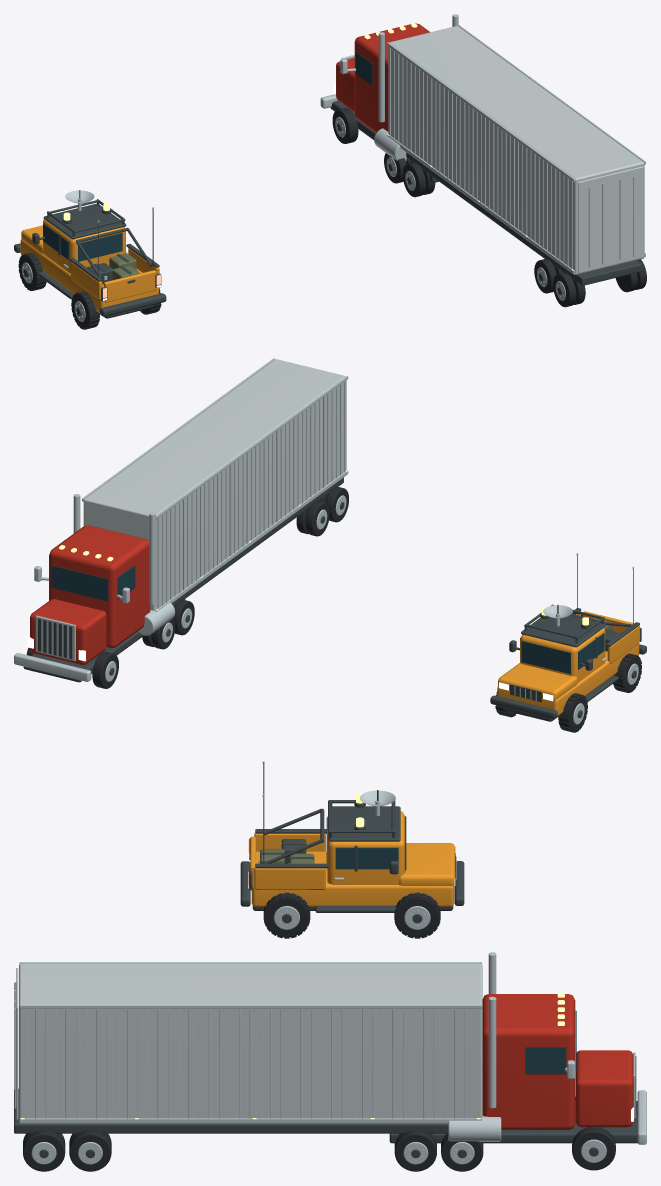
The model's file is storm-vehicles.glb.
3 views of the same model, one above another, from view 1: azimuth 30°, elevation 25°; view 2: azimuth 150°, elevation 25°; view 3: azimuth 270°, elevation 25° (orthographic). The views are drawn at different scales.
Parts seen in each view (by area): view 1: Trailer box, Trailer doors, Sleeper cab, Trailer chassis, Roof, Body, Cab, Tailgate, Trailer lower rail, Trailer upper rail, Rear glass, Semi hood (+10 smaller); view 2: Trailer box, Sleeper cab, Semi hood, Hood, Body, Roof, Semi windshield, Cab, Windshield, Trailer lower rail, Trailer chassis, Semi bumper (+10 smaller); view 3: Trailer box, Sleeper cab, Trailer chassis, Semi hood, Body, Trailer lower rail_001, Trailer upper rail_001, Cab, Hood, Roof, Tractor frame, Bed side_001 (+13 smaller).
Boxes of the visible parts, left/top/right/bottom form: Trailer box: left=388, top=26, right=644, bottom=274; Trailer doors: left=578, top=166, right=643, bottom=273; Sleeper cab: left=354, top=23, right=429, bottom=132; Trailer chassis: left=406, top=152, right=641, bottom=285; Roof: left=43, top=203, right=126, bottom=239; Body: left=20, top=239, right=158, bottom=312; Cab: left=43, top=219, right=125, bottom=273; Tailgate: left=103, top=270, right=156, bottom=302; Trailer lower rail: left=386, top=134, right=574, bottom=274; Trailer upper rail: left=386, top=42, right=574, bottom=181; Rear glass: left=78, top=232, right=122, bottom=261; Semi hood: left=336, top=58, right=354, bottom=112; Trailer box: left=83, top=359, right=346, bottom=610; Sleeper cab: left=49, top=525, right=150, bottom=648; Semi hood: left=30, top=599, right=106, bottom=664; Hood: left=498, top=663, right=577, bottom=701; Body: left=497, top=643, right=639, bottom=716; Roof: left=521, top=615, right=605, bottom=647; Semi windshield: left=51, top=565, right=108, bottom=601; Cab: left=520, top=628, right=605, bottom=682; Windshield: left=521, top=641, right=570, bottom=673; Trailer lower rail: left=155, top=470, right=348, bottom=611; Trailer chassis: left=171, top=477, right=343, bottom=606; Semi bumper: left=14, top=653, right=91, bottom=681; Trailer box: left=19, top=963, right=482, bottom=1122; Sleeper cab: left=482, top=994, right=575, bottom=1129; Trailer chassis: left=14, top=1088, right=448, bottom=1133; Semi hood: left=575, top=1050, right=633, bottom=1127; Body: left=251, top=851, right=454, bottom=906; Trailer lower rail_001: left=19, top=1118, right=481, bottom=1123; Trailer upper rail_001: left=19, top=1004, right=481, bottom=1008; Cab: left=327, top=811, right=405, bottom=884; Hood: left=399, top=843, right=455, bottom=886; Roof: left=328, top=806, right=400, bottom=841; Tractor frame: left=389, top=1101, right=637, bottom=1143; Bed side_001: left=254, top=867, right=325, bottom=889.
Bounding box in the file's own units: 17.1 × 4.88 × 16.11.
